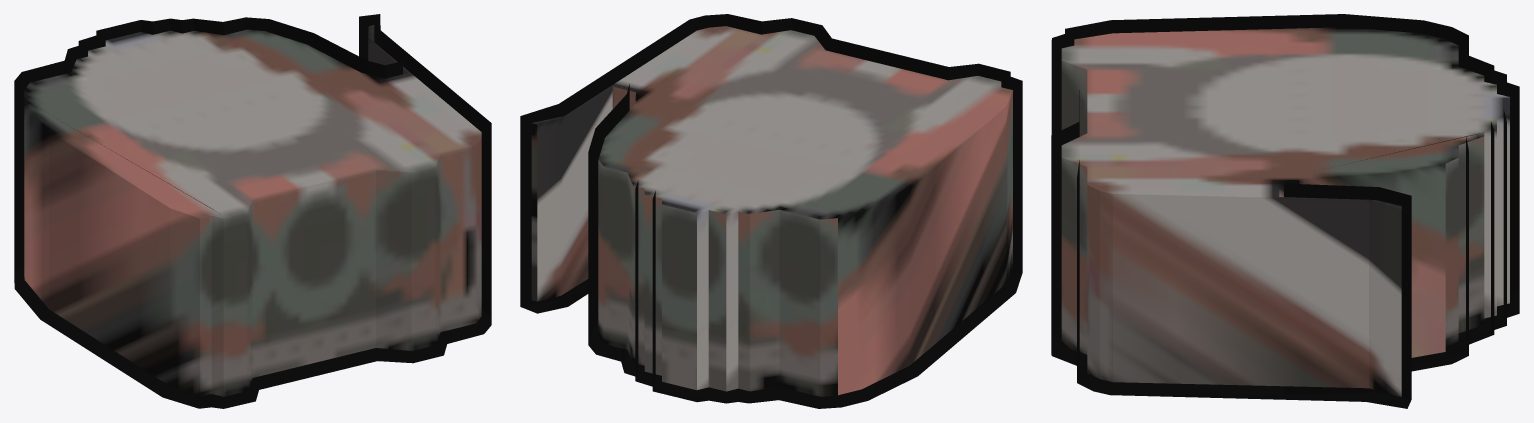
File: Building_AncientRustedEngineBlock_Things_Building_Ruins_RustedEngineBlock_RustedEngineBlockA.glb
3 renders of one model, left to right at view 1: azimuth 30°, elevation 25°; view 2: azimuth 150°, elevation 25°; view 3: azimuth 270°, elevation 25°, orthographic. The views are drawn at different scales.
Visible parts, largest first — view 1: Body, Outline; view 2: Body, Outline; view 3: Body, Outline.
Boxes of the visible parts, <box> form: Body: <box>24,25,481,396</box>; Outline: <box>14,14,491,408</box>; Body: <box>531,26,1012,396</box>; Outline: <box>520,14,1022,408</box>; Body: <box>1061,27,1509,397</box>; Outline: <box>1051,14,1519,408</box>.
Size of the model in its own units: 0.9833 by 0.5086 by 1.02.
Materials: 2 (1 with a texture image).
